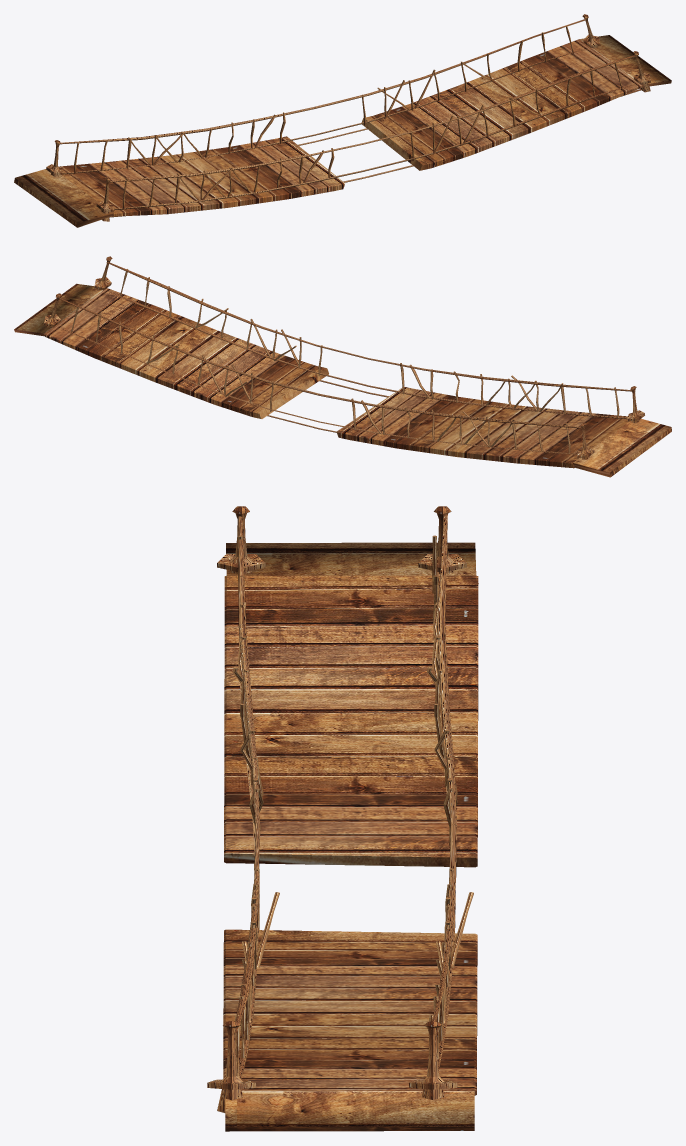
The model's file is Wodden_Bridge2.fbx.
3 renders of one model, top to bottom at view 1: azimuth 30°, elevation 25°; view 2: azimuth 150°, elevation 25°; view 3: azimuth 270°, elevation 25°, orthographic. The views are drawn at different scales.
Visible parts, largest first — view 1: polySurface3021; view 2: polySurface3021; view 3: polySurface3021.
Boxes of the visible parts, <box> form: polySurface3021: <box>14,14,671,227</box>; polySurface3021: <box>14,256,671,477</box>; polySurface3021: <box>207,506,478,1131</box>.
Size of the model in its own units: 1206 by 131 by 238.
